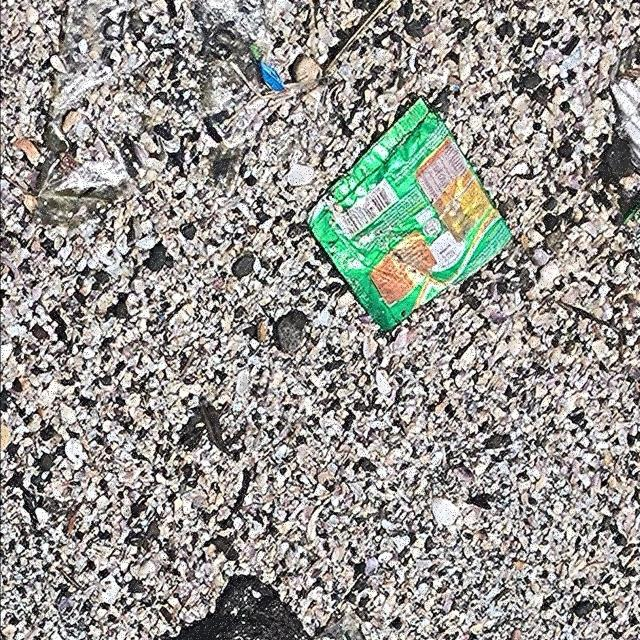plastic_waste: (306, 96, 515, 338)
